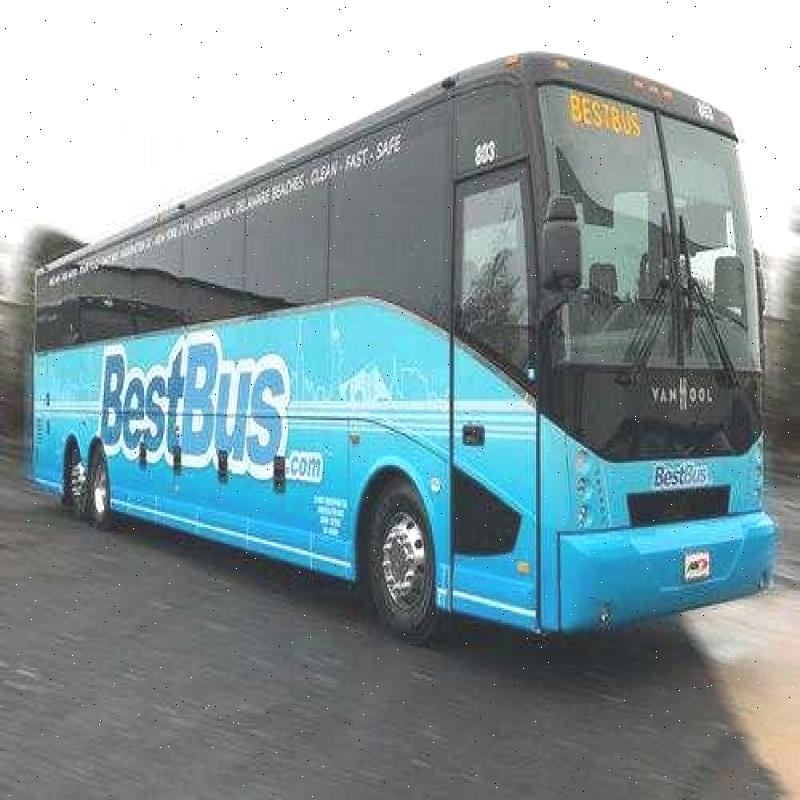bus: (39, 27, 756, 693)
